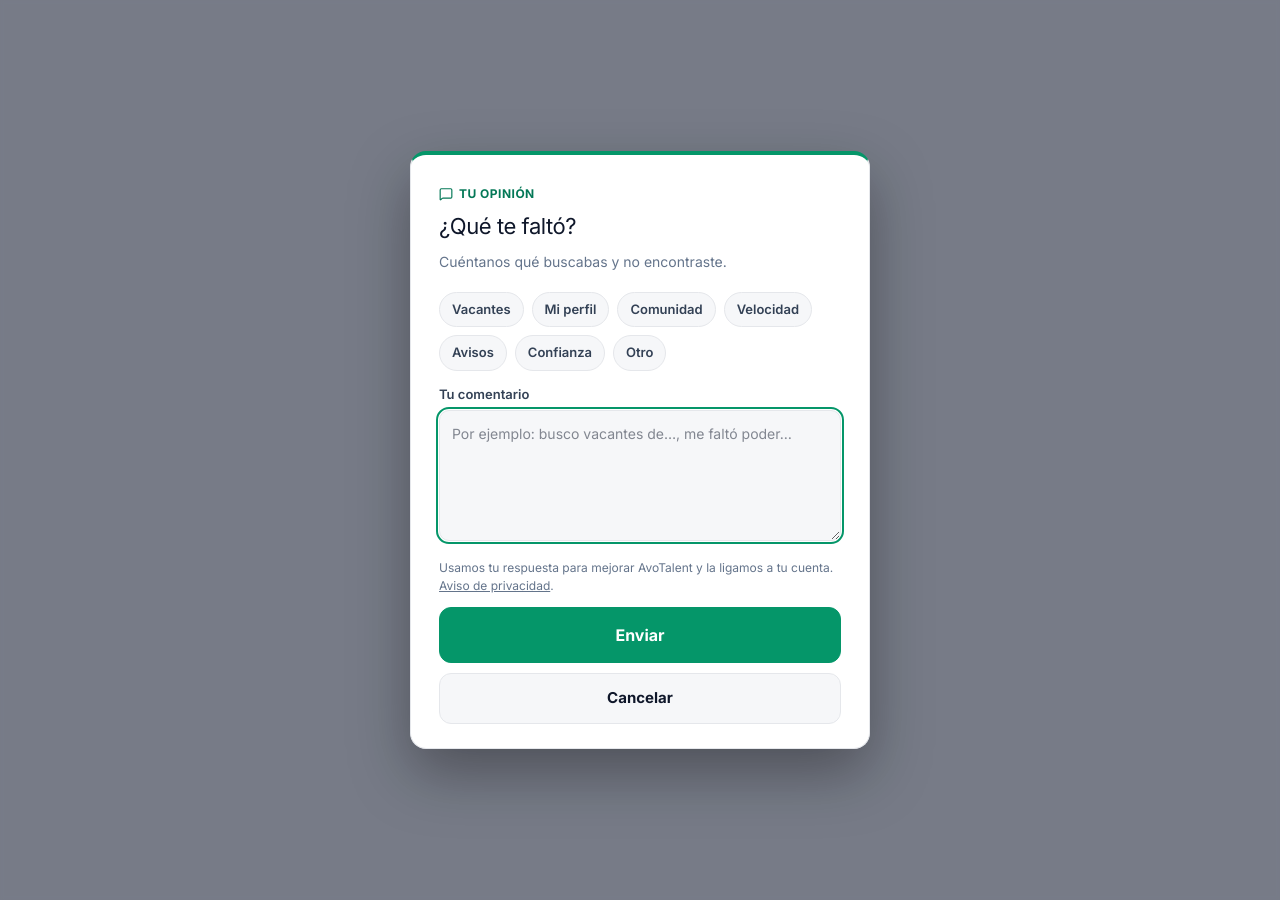
the sheet › tells the person when they sent too many today, and keeps what they wrote
Type "Otro comentario más" into the text box labelled "Tu comentario". click: coordinates (640, 476)
box: [439,410,841,541]
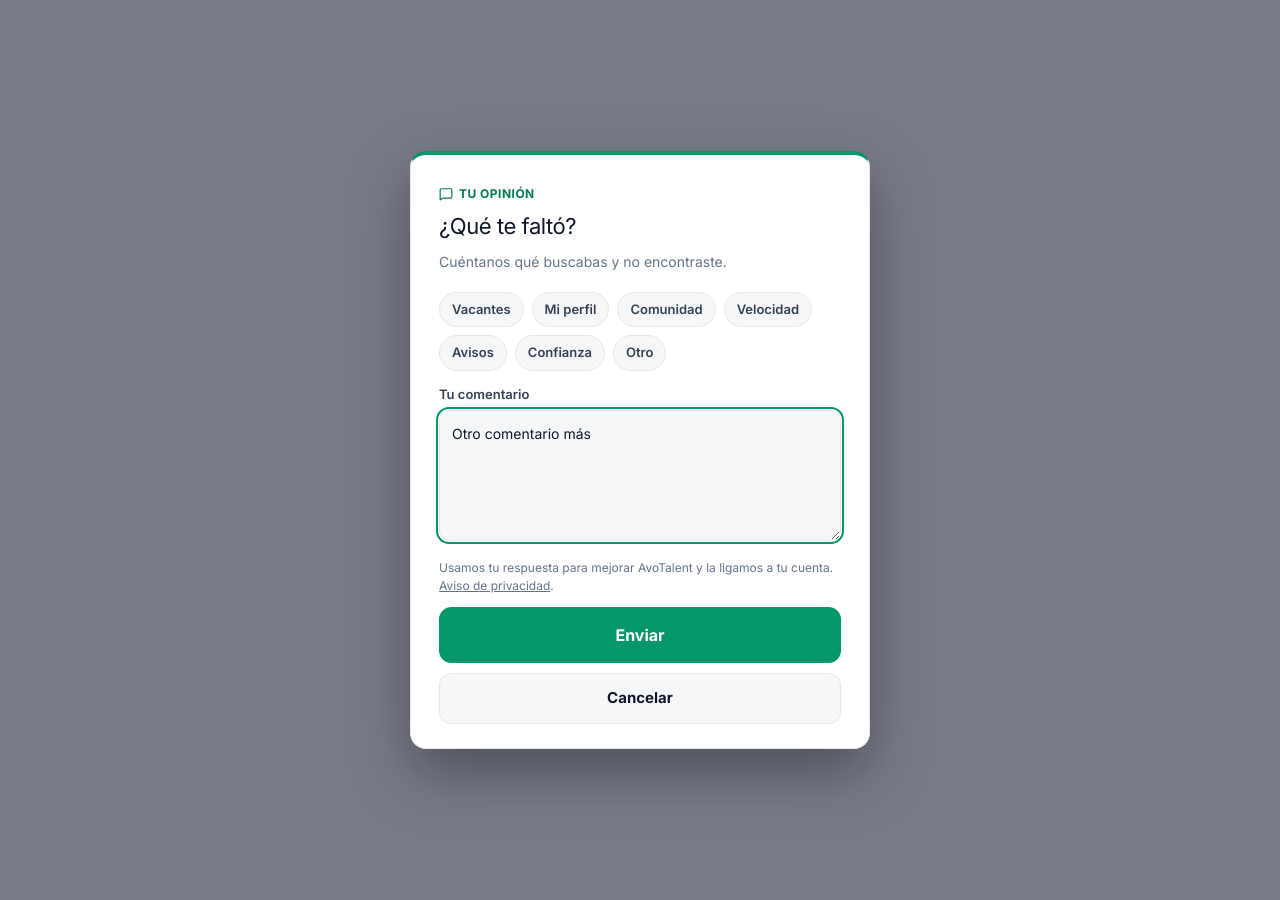
Click the button "Enviar". click: coordinates (640, 635)
box: [439,607,841,663]
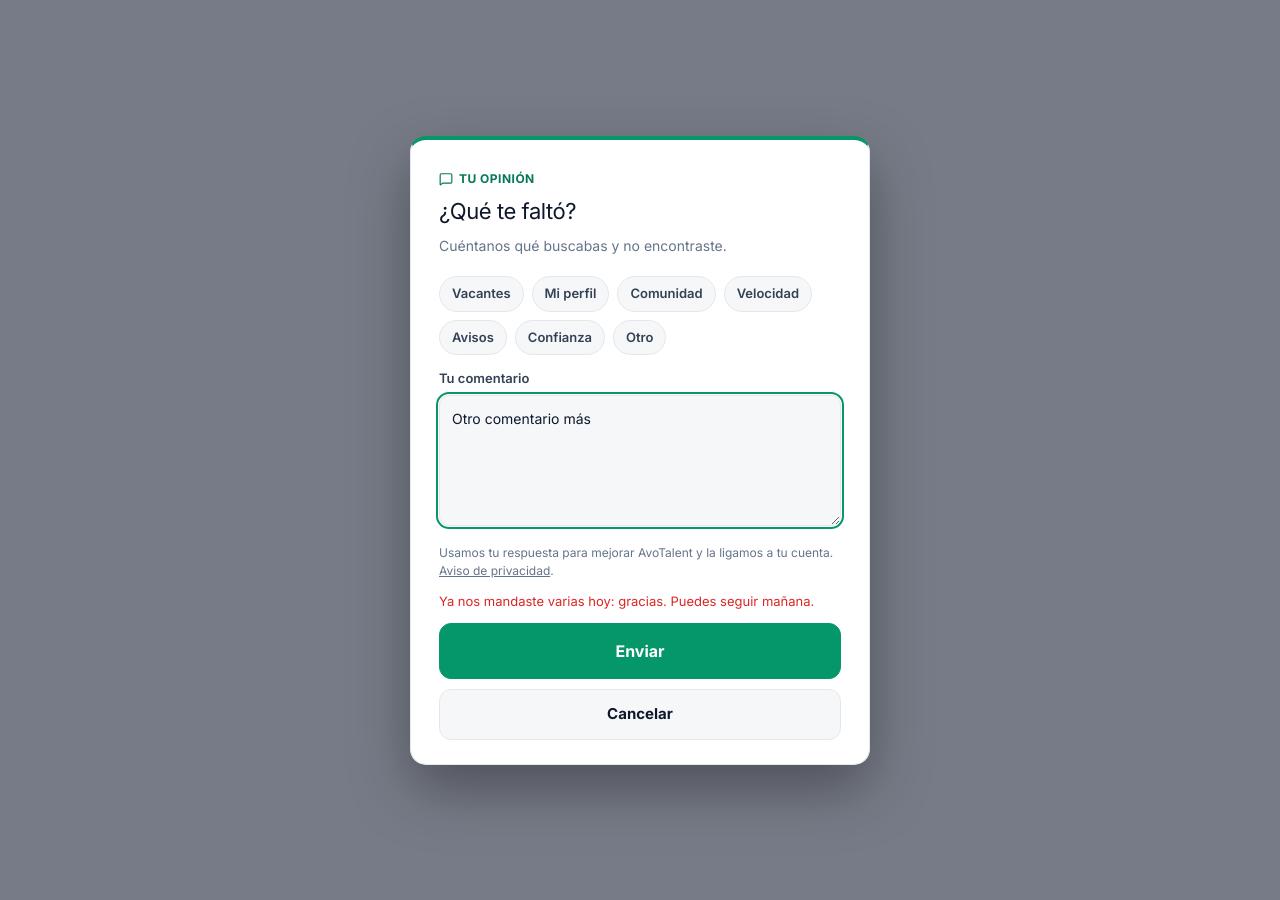
Check: the message shows "varias hoy", box [439,592,814,608]
